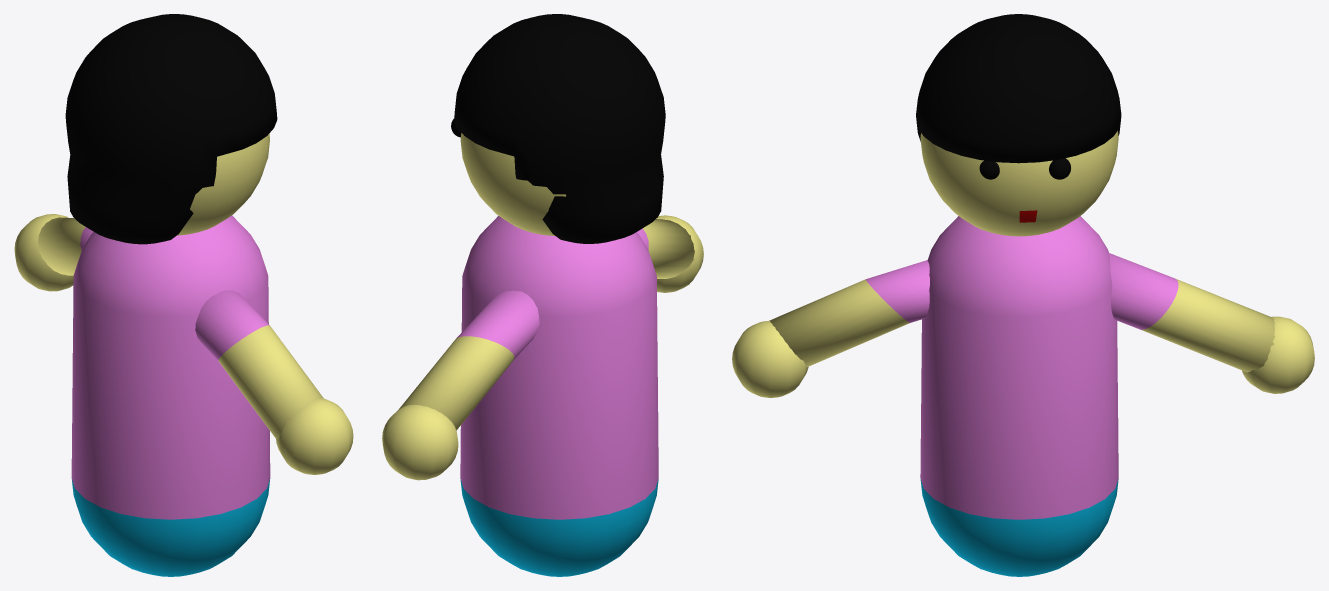
File: esposa.glb
The picture shows the model from 3 angles, left to right: view 1: azimuth 30°, elevation 25°; view 2: azimuth 150°, elevation 25°; view 3: azimuth 270°, elevation 25°; orthographic projection.
Parts seen in each view (by area): view 1: Sphere.001, Sphere.004, Cylinder.001, Sphere.002, Sphere, Sphere.003, Cylinder.002; view 2: Sphere.001, Sphere.004, Cylinder.002, Sphere, Sphere.003, Cylinder.001, Sphere.002; view 3: Sphere.001, Sphere.004, Sphere, Cylinder.002, Cylinder.001, Sphere.002, Sphere.003.
Boxes of the visible parts, bbox=[...] form: Sphere.001: bbox=[71, 215, 270, 576]; Sphere.004: bbox=[65, 14, 277, 244]; Cylinder.001: bbox=[195, 290, 323, 439]; Sphere.002: bbox=[276, 398, 353, 474]; Sphere: bbox=[177, 133, 269, 235]; Sphere.003: bbox=[14, 214, 73, 291]; Cylinder.002: bbox=[38, 217, 93, 275]; Sphere.001: bbox=[460, 216, 658, 576]; Sphere.004: bbox=[454, 14, 665, 243]; Cylinder.002: bbox=[398, 290, 539, 430]; Sphere: bbox=[460, 133, 566, 235]; Sphere.003: bbox=[382, 404, 458, 480]; Cylinder.001: bbox=[637, 219, 694, 278]; Sphere.002: bbox=[656, 215, 703, 292]; Sphere.001: bbox=[920, 216, 1118, 576]; Sphere.004: bbox=[916, 14, 1121, 163]; Sphere: bbox=[920, 131, 1118, 236]; Cylinder.002: bbox=[1109, 253, 1275, 372]; Cylinder.001: bbox=[769, 260, 929, 366]; Sphere.002: bbox=[732, 321, 808, 397]; Sphere.003: bbox=[1242, 316, 1314, 393].
Size of the model in its own units: 2.15 by 6.04 by 5.88.
